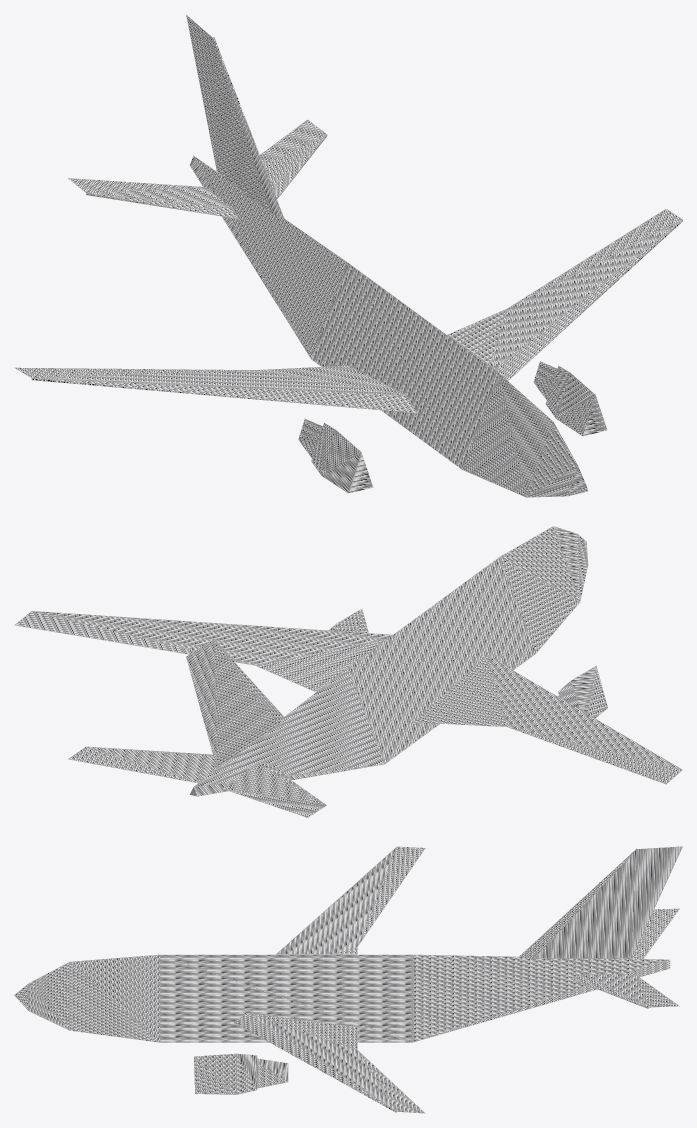
File: TFS_Airbus_A310-300_GE_MSFS_LOD1.gltf
The picture shows the model from 3 angles, top to bottom: view 1: azimuth 30°, elevation 25°; view 2: azimuth 150°, elevation 25°; view 3: azimuth 270°, elevation 25°; orthographic projection. The views are drawn at different scales.
Parts seen in each view (by area): view 1: node1; view 2: node1; view 3: node1.
Boxes of the visible parts, box(x1,y1,x2,y2) form: node1: box(14, 15, 682, 497); node1: box(14, 526, 682, 817); node1: box(14, 846, 682, 1113).
Size of the model in its own units: 43.88 by 15.01 by 46.7.
